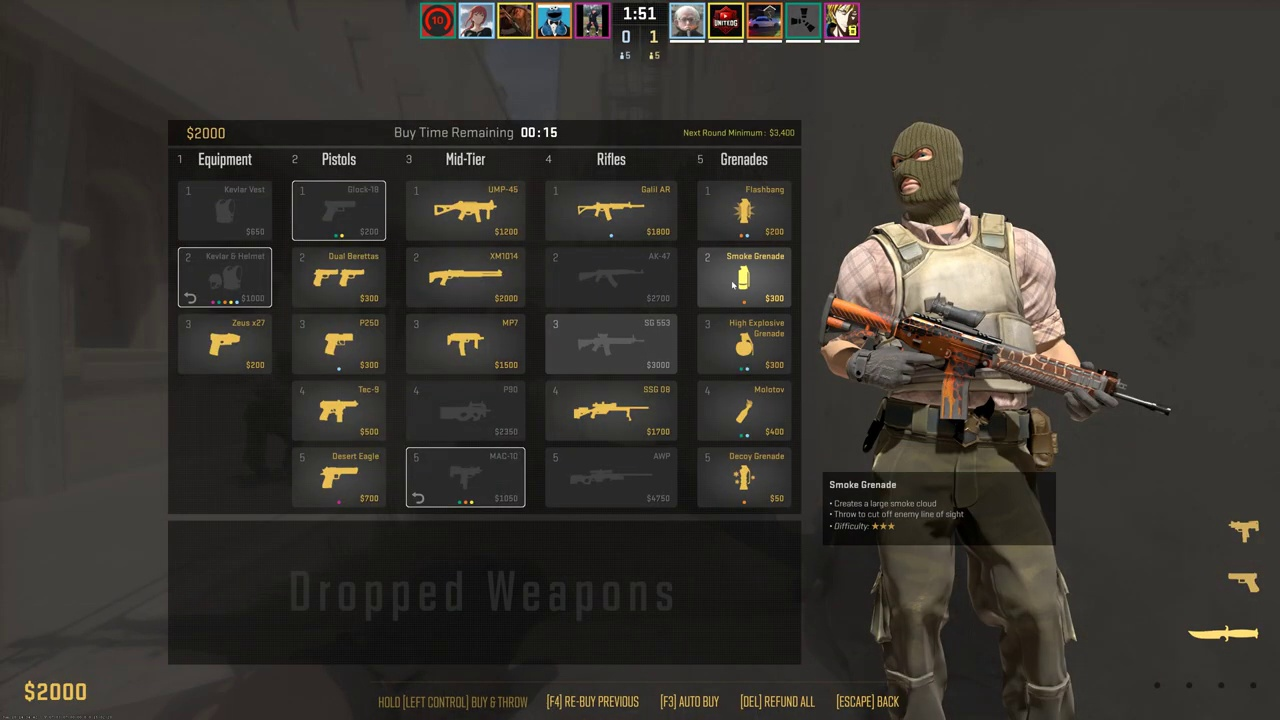Terrorist: (849, 125, 1075, 720)
